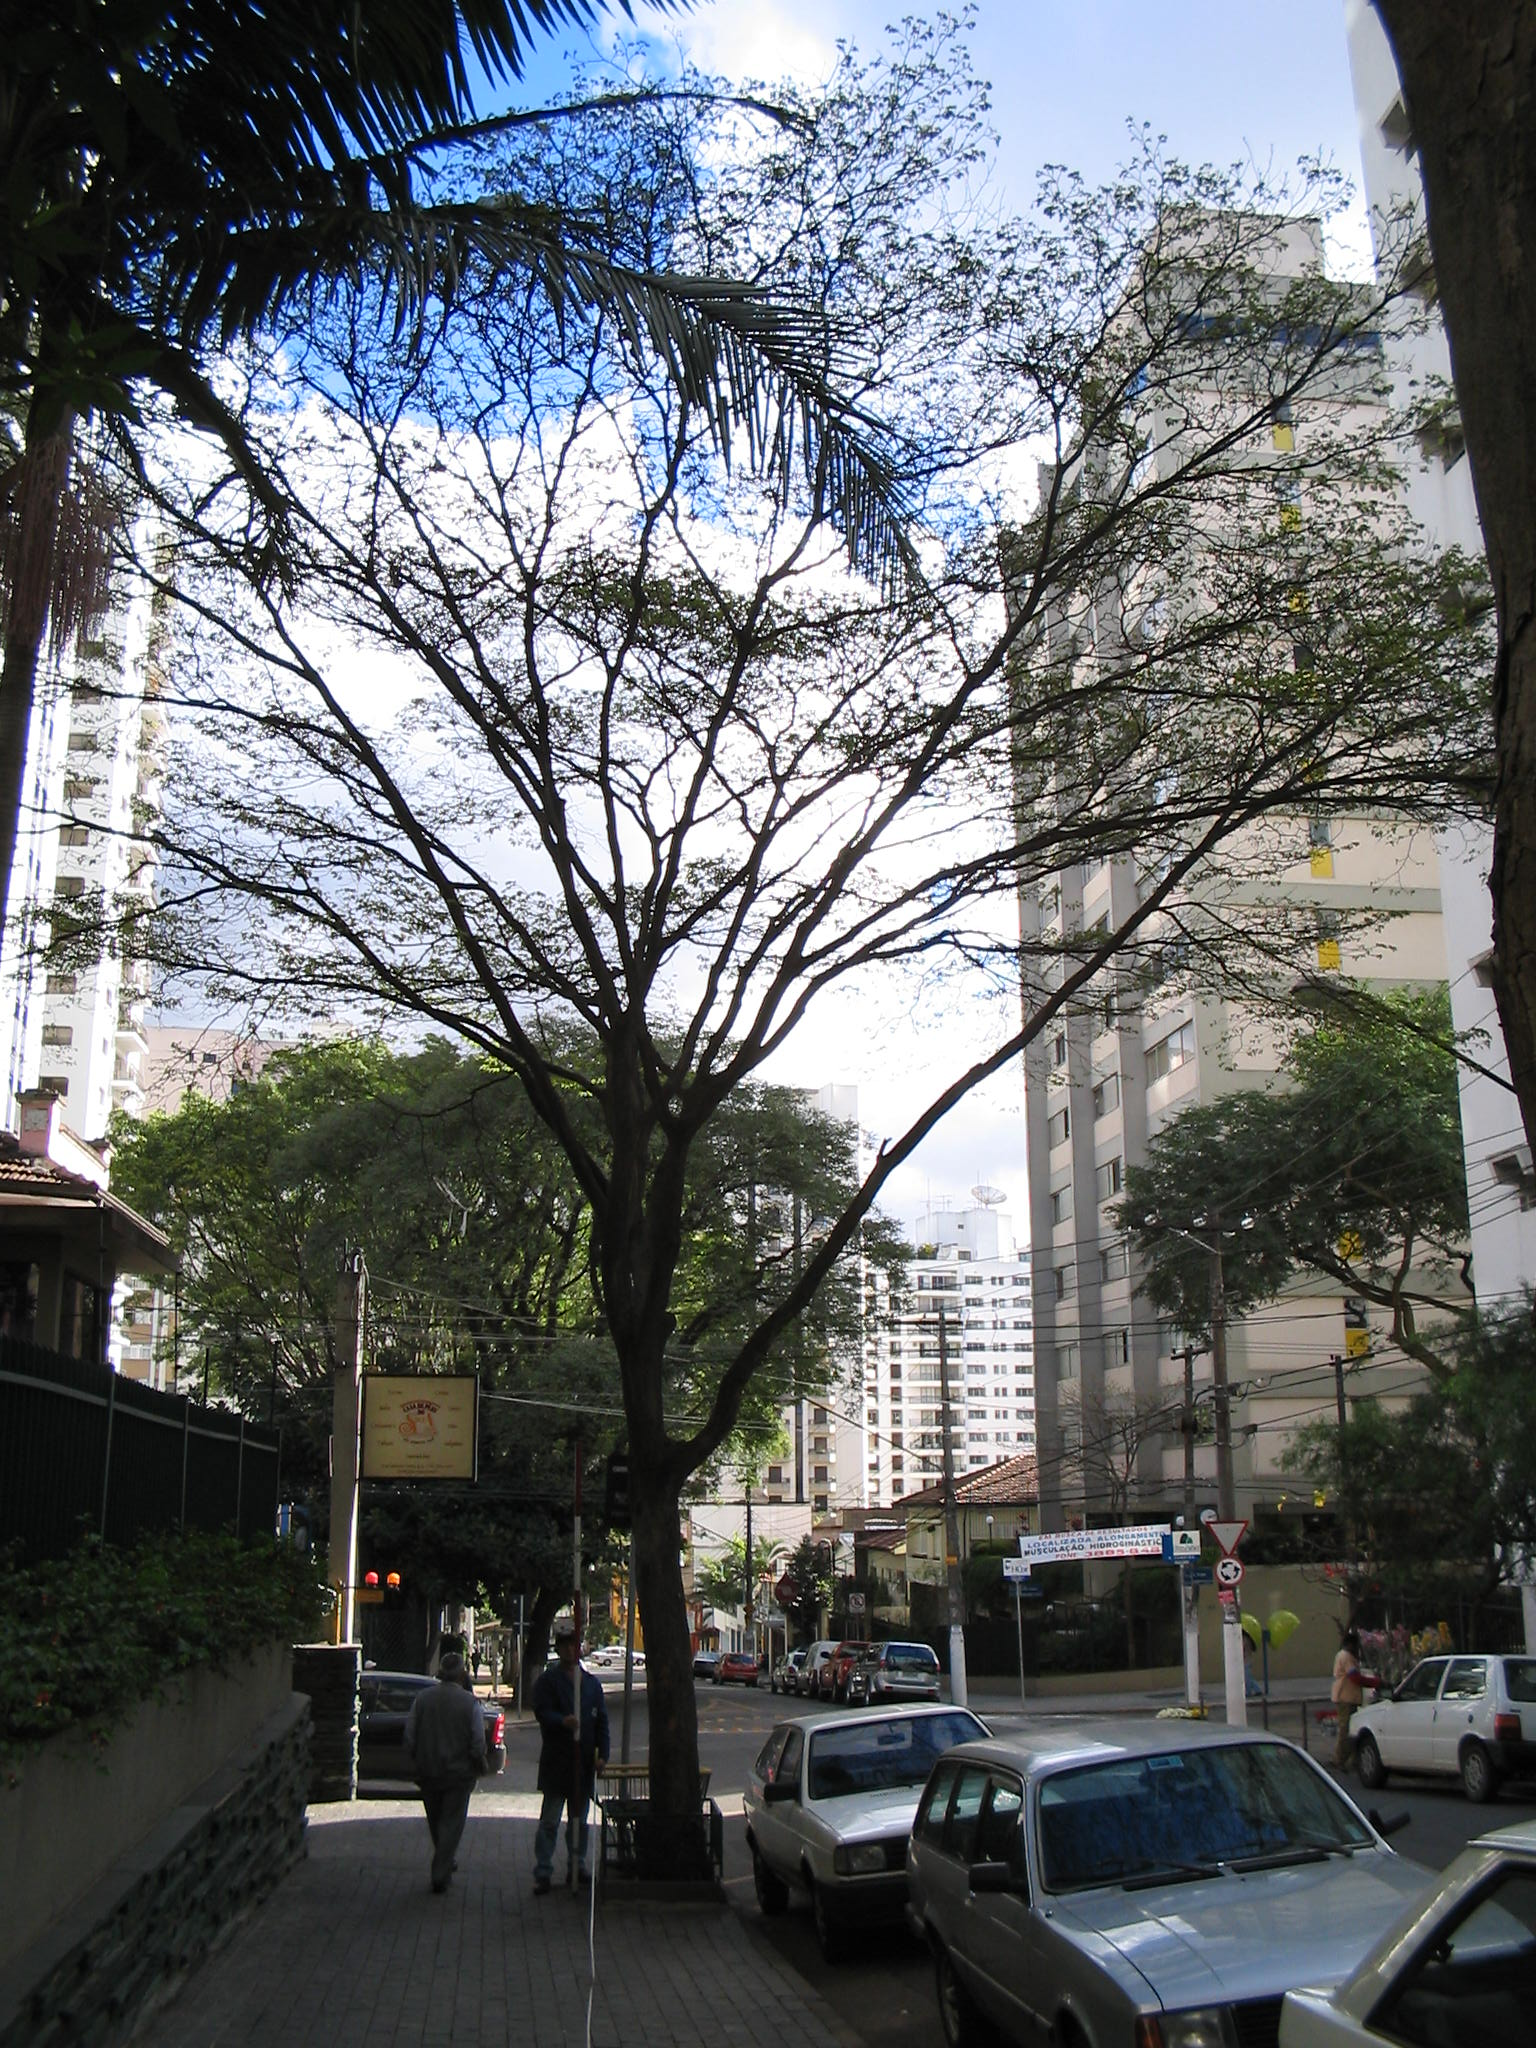stem: (599, 1453, 766, 1879)
stick: (536, 1445, 608, 1901)
tree: (31, 11, 1473, 1887), (110, 1029, 933, 1716)
